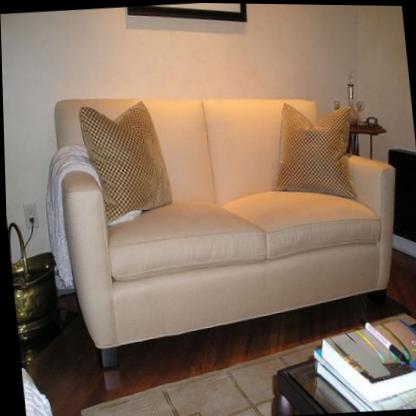Sofa: (45, 77, 413, 377)
